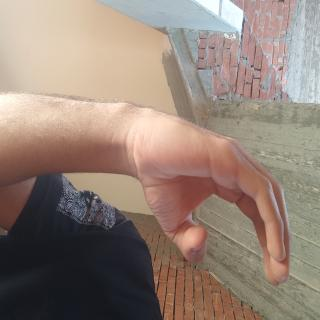JEEM: (72, 26, 218, 273)
